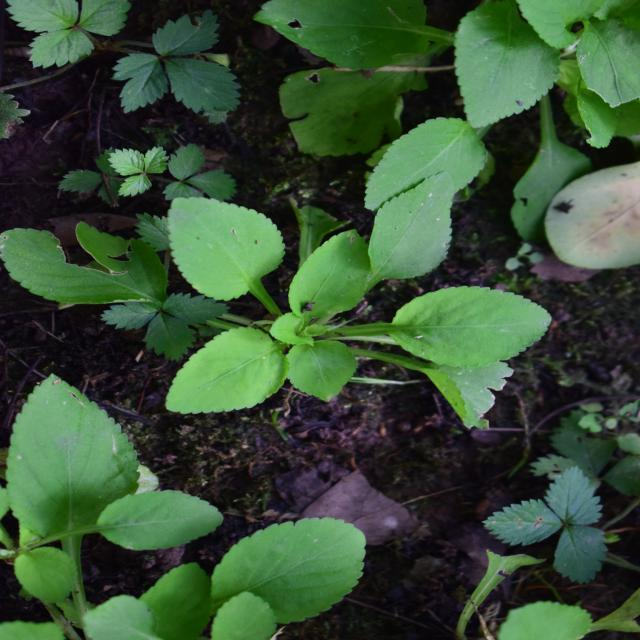Viola: (197, 89, 445, 480)
